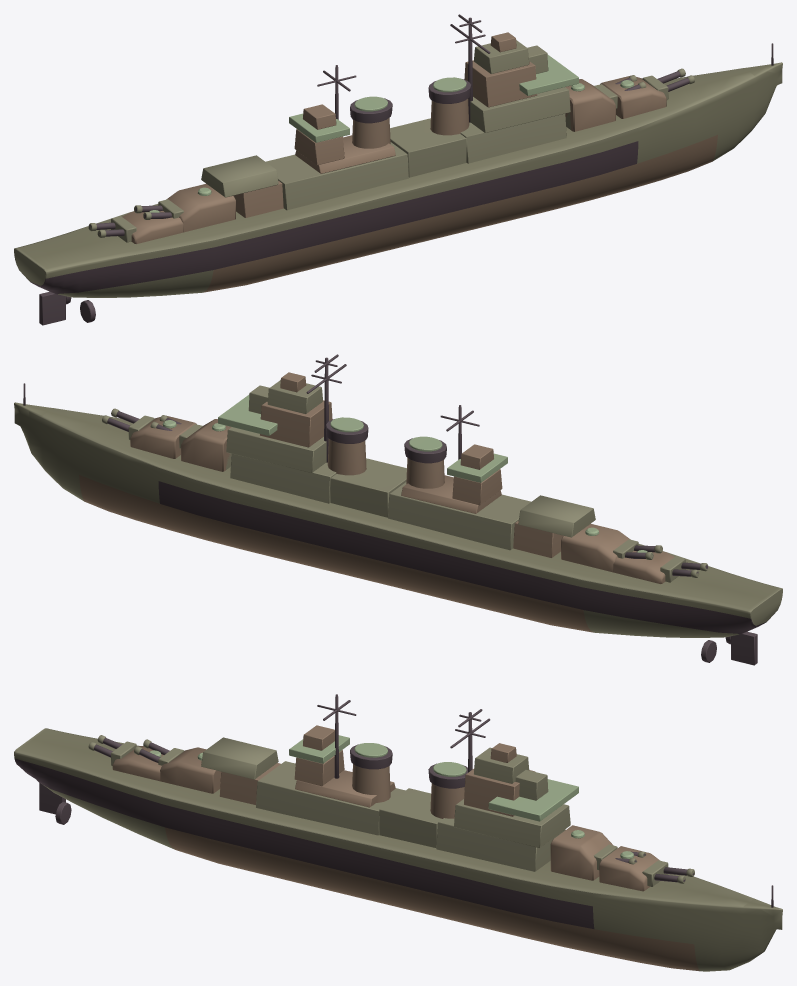
File: us_cruiser.glb
The picture shows the model from 3 angles, top to bottom: view 1: azimuth 30°, elevation 25°; view 2: azimuth 150°, elevation 25°; view 3: azimuth 330°, elevation 25°; orthographic projection.
Visible parts, largest first — view 1: Hull, Turret_03, Turret_02, Turret_01, Turret_04, Barrel_04, Barrel_01, Barrel_03; view 2: Hull, Turret_03, Turret_02, Turret_01, Turret_04, Barrel_04, Barrel_01, Barrel_03; view 3: Hull, Turret_02, Turret_03, Turret_01, Turret_04, Barrel_01, Barrel_04, Barrel_03.
Part boxes in pixels (x1,y1,x2,y2): Hull: (14, 14, 782, 325); Turret_03: (166, 183, 235, 232); Turret_02: (565, 79, 615, 131); Turret_01: (600, 75, 666, 118); Turret_04: (122, 210, 183, 243); Barrel_04: (88, 216, 136, 242); Barrel_01: (642, 68, 694, 99); Barrel_03: (134, 199, 183, 219); Hull: (14, 354, 782, 665); Turret_03: (561, 523, 630, 572); Turret_02: (181, 419, 231, 471); Turret_01: (130, 415, 196, 458); Turret_04: (613, 550, 674, 583); Barrel_04: (660, 556, 708, 582); Barrel_01: (102, 408, 154, 439); Barrel_03: (613, 539, 662, 559); Hull: (14, 694, 782, 971); Turret_02: (550, 825, 613, 880); Turret_03: (160, 747, 221, 793); Turret_01: (599, 846, 659, 891); Turret_04: (112, 746, 163, 781); Barrel_01: (642, 860, 694, 886); Barrel_04: (88, 735, 136, 765); Barrel_03: (134, 739, 183, 765).
Bounding box in the file's own units: 1 × 0.2598 × 0.1205.
